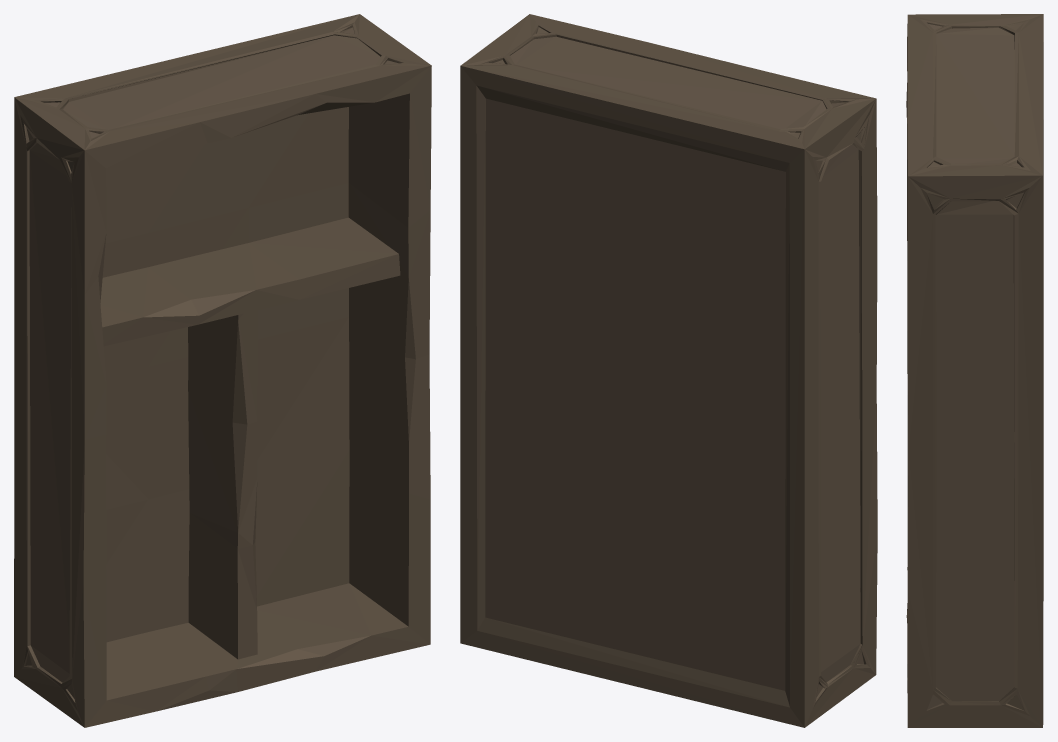
File: SFHW_Shelving_009.fbx
3 renders of one model, left to right at view 1: azimuth 30°, elevation 25°; view 2: azimuth 150°, elevation 25°; view 3: azimuth 270°, elevation 25°, orthographic. The views are drawn at different scales.
Visible parts, largest first — view 1: SFHW_Shelving_009; view 2: SFHW_Shelving_009; view 3: SFHW_Shelving_009.
Boxes of the visible parts, x1=… form: SFHW_Shelving_009: x1=14, y1=14, x2=431, y2=727; SFHW_Shelving_009: x1=460, y1=14, x2=877, y2=727; SFHW_Shelving_009: x1=906, y1=14, x2=1043, y2=727.
Bounding box in the file's own units: 96.91 × 154 × 34.62.
